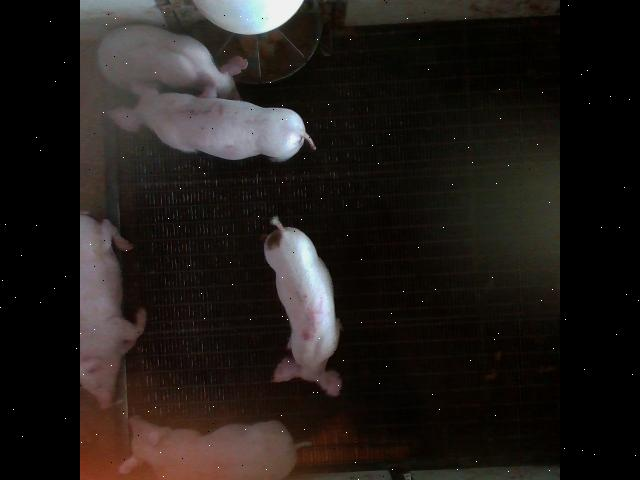pig-3: (109, 84, 315, 161)
pig-4: (119, 415, 310, 480)
pig-5: (264, 215, 342, 395)
